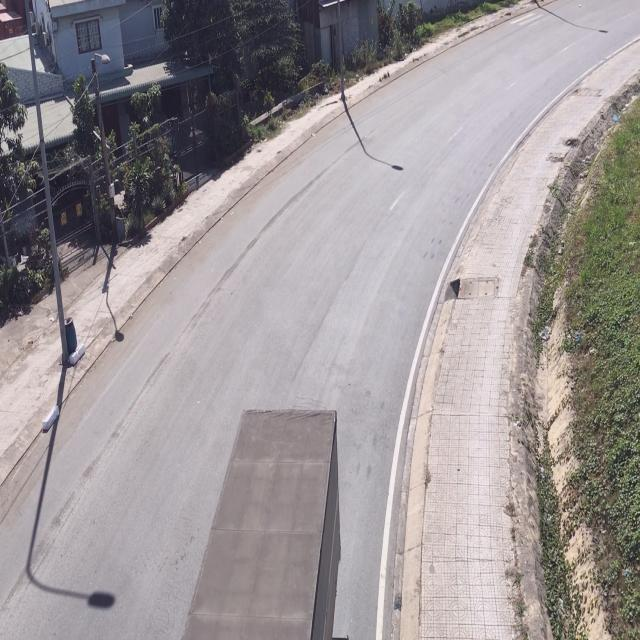truck: (182, 402, 338, 640)
